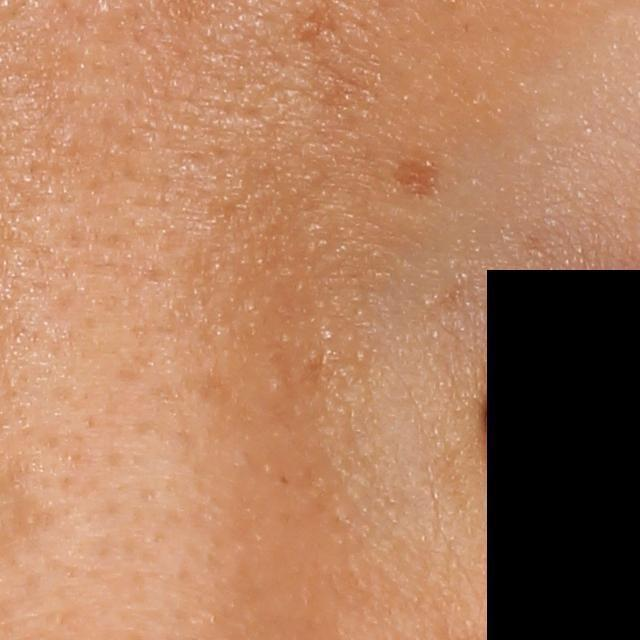melasma: (291, 1, 335, 55), (392, 145, 436, 196)
